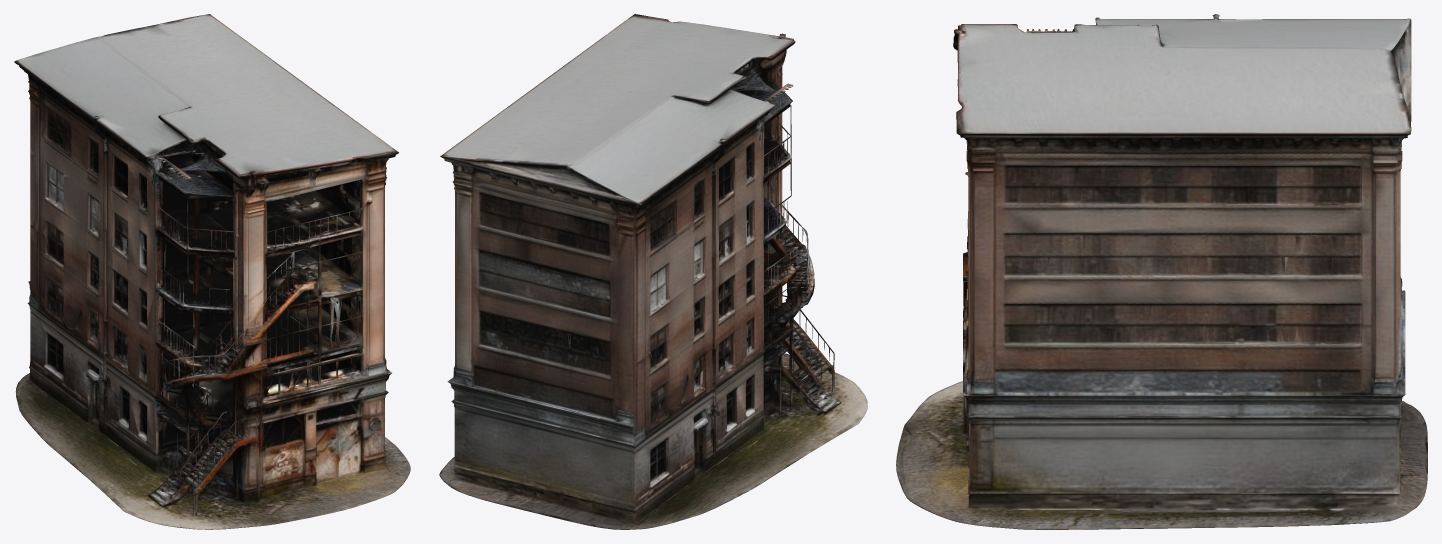
File: house.glb
3 views of the same model, side by side, from view 1: azimuth 30°, elevation 25°; view 2: azimuth 150°, elevation 25°; view 3: azimuth 270°, elevation 25° (orthographic). The views are drawn at different scales.
Visible parts, largest first — view 1: material; view 2: material; view 3: material.
Part boxes in pixels (bbox=[...]): material: bbox=[14, 14, 410, 529]; material: bbox=[439, 14, 867, 529]; material: bbox=[896, 14, 1427, 529].
Bounding box in the file's own units: 0.6226 × 0.7318 × 0.8807.
1 material, 1 textured.
